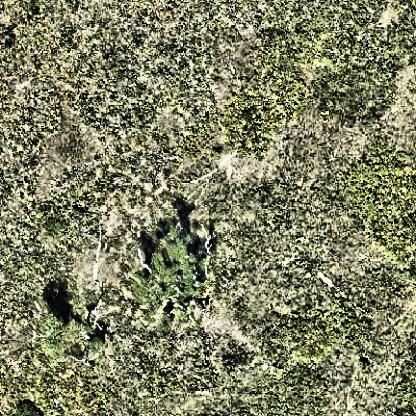tree-top: (134, 242, 216, 329), (41, 323, 111, 364)
